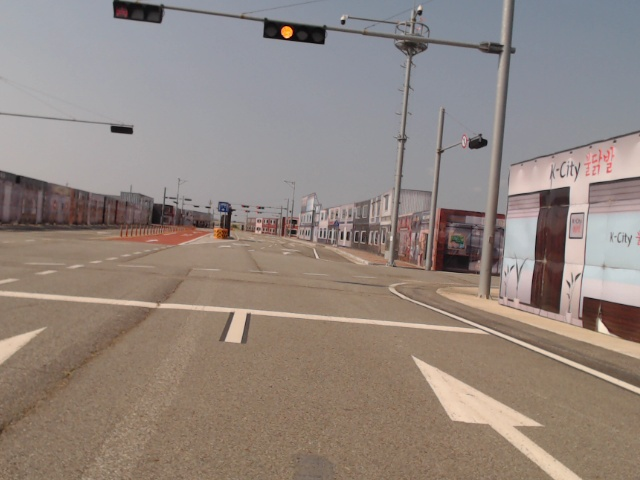orange_4: (263, 18, 327, 47)
